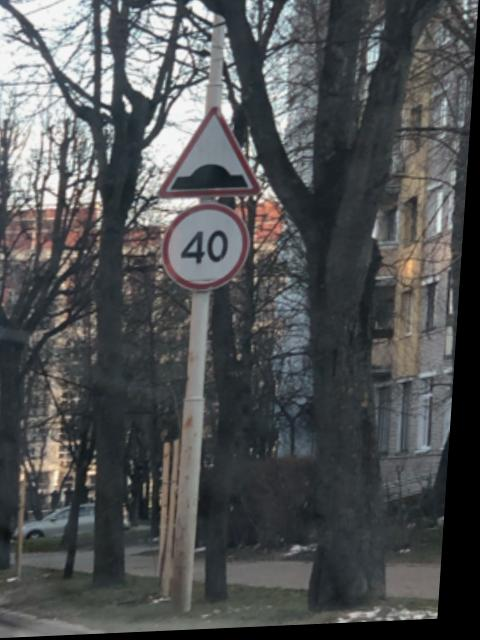limit40: (165, 199, 258, 299)
